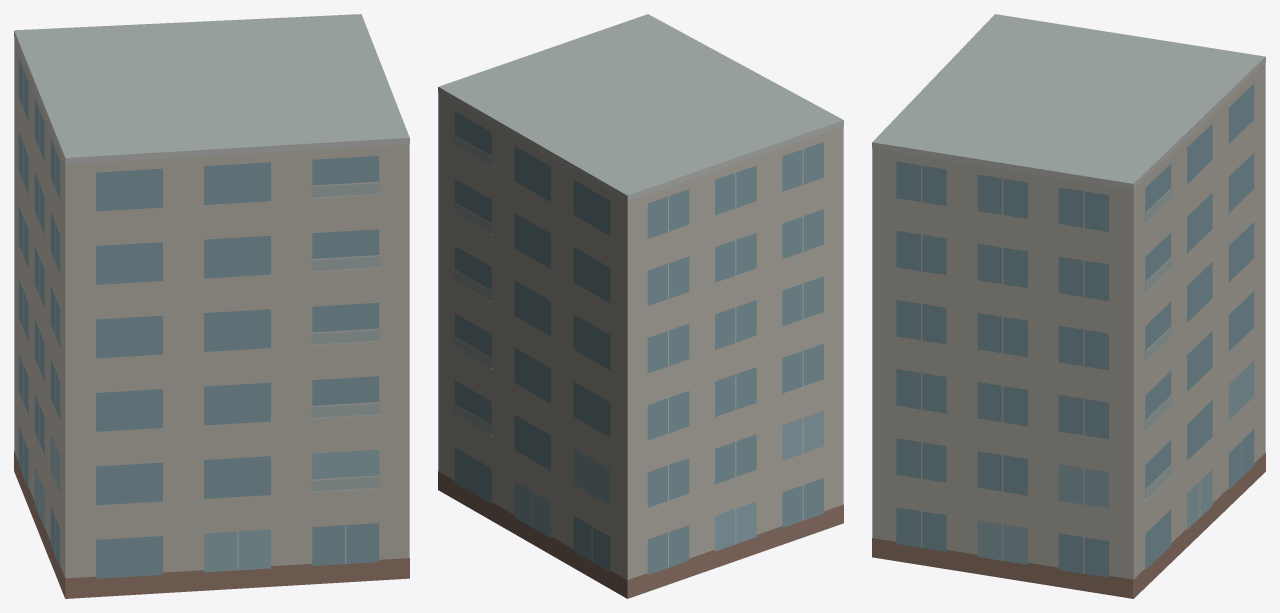
The model's file is survey-upis-32875964.glb.
The picture shows the model from 3 angles, left to right: view 1: azimuth 30°, elevation 25°; view 2: azimuth 150°, elevation 25°; view 3: azimuth 270°, elevation 25°; orthographic projection. The views are drawn at different scales.
Parts seen in each view (by area): view 1: survey-upis-32875964.tmp; view 2: survey-upis-32875964.tmp; view 3: survey-upis-32875964.tmp.
Boxes of the visible parts, box(x1,y1,x2,y2) form: survey-upis-32875964.tmp: box(14, 14, 409, 598); survey-upis-32875964.tmp: box(438, 14, 843, 598); survey-upis-32875964.tmp: box(872, 14, 1265, 598).
Size of the model in its own units: 14.76 by 16.8 by 14.45.
